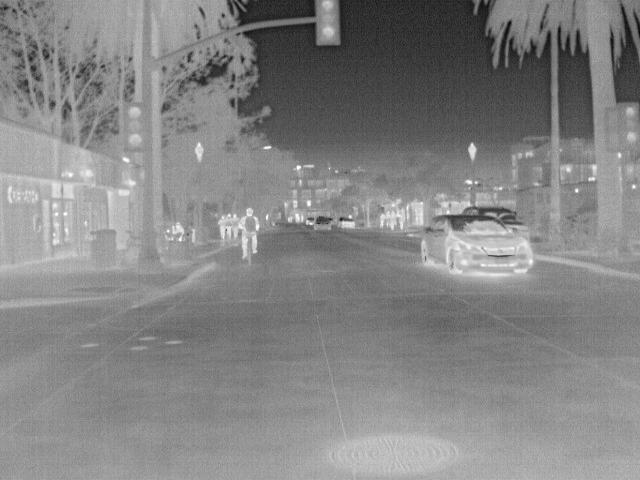car: (419, 214, 535, 276), (464, 205, 532, 243), (314, 214, 335, 233), (337, 214, 356, 228), (305, 216, 315, 226)
person: (238, 206, 260, 261), (173, 220, 186, 245), (216, 213, 228, 240), (397, 209, 408, 232), (388, 210, 400, 231), (226, 211, 234, 238), (232, 211, 240, 237), (378, 211, 388, 230)
